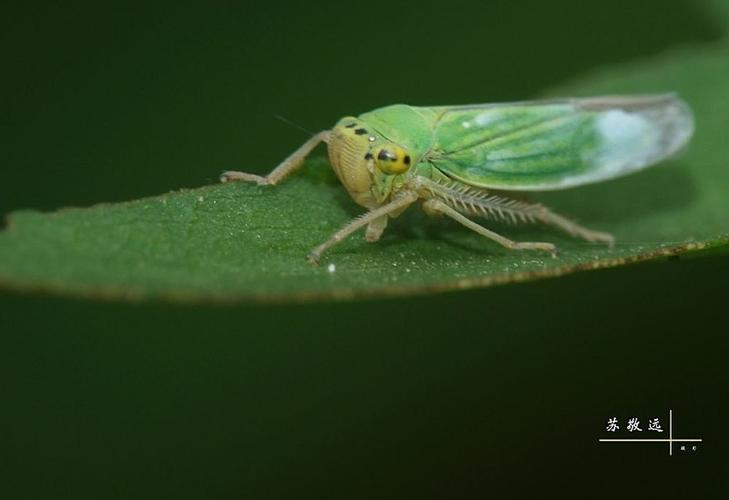Cicadellidae: (220, 94, 697, 266)
